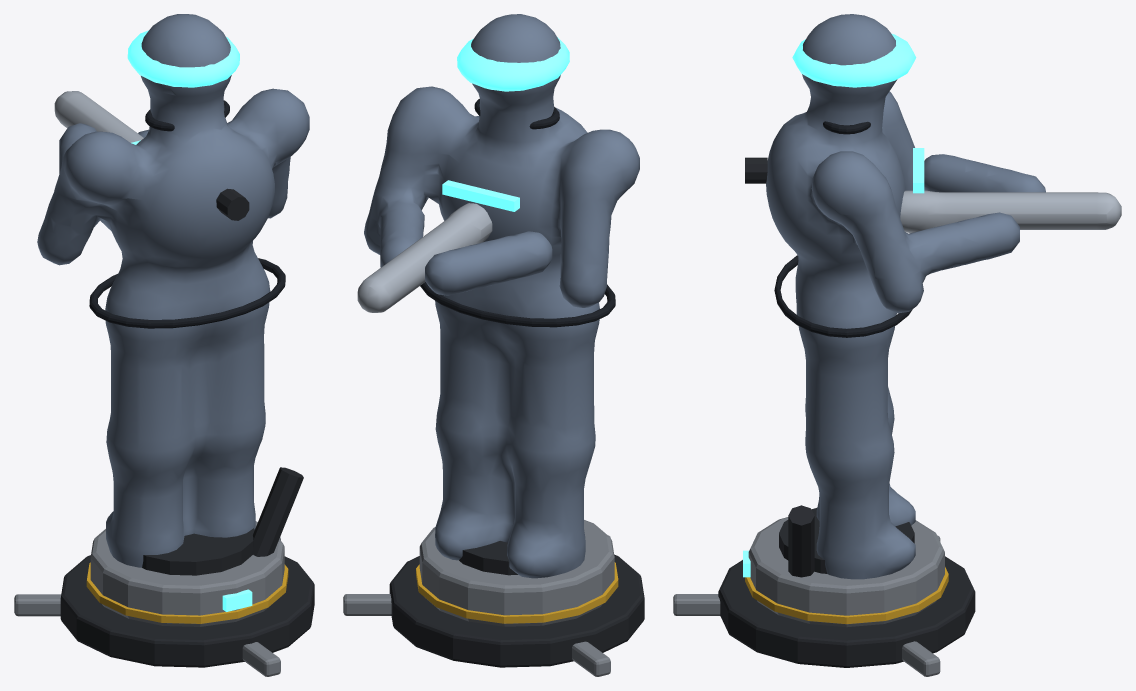
The model's file is td_decoy.glb.
The picture shows the model from 3 angles, left to right: view 1: azimuth 30°, elevation 25°; view 2: azimuth 150°, elevation 25°; view 3: azimuth 270°, elevation 25°; orthographic projection.
Parts seen in each view (by area): view 1: DecoyBody, DecoyBase; view 2: DecoyBody, DecoyBase; view 3: DecoyBody, DecoyBase.
Boxes of the visible parts, x1,y1,x2,y2 form: DecoyBody: (37, 14, 309, 567); DecoyBase: (14, 467, 314, 676); DecoyBody: (357, 14, 639, 578); DecoyBase: (343, 520, 644, 676); DecoyBody: (745, 14, 1121, 579); DecoyBase: (673, 505, 975, 676).
Bounding box in the file's own units: 0.8137 × 1.74 × 1.19.
